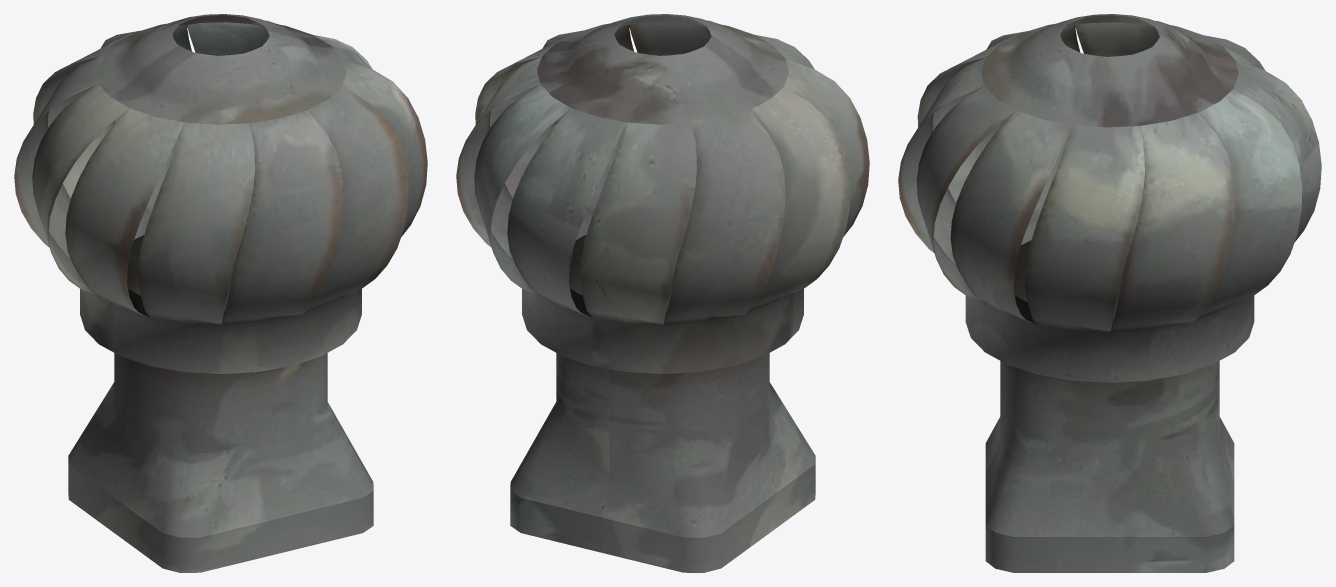
3 views of the same model, side by side, from view 1: azimuth 30°, elevation 25°; view 2: azimuth 150°, elevation 25°; view 3: azimuth 270°, elevation 25° (orthographic). The views are drawn at different scales.
Parts seen in each view (by area): view 1: body0_model0_lod0_mesh0; view 2: body0_model0_lod0_mesh0; view 3: body0_model0_lod0_mesh0.
Boxes of the visible parts, left/top/right/bottom form: body0_model0_lod0_mesh0: left=14, top=14, right=427, bottom=572; body0_model0_lod0_mesh0: left=456, top=14, right=869, bottom=572; body0_model0_lod0_mesh0: left=898, top=14, right=1321, bottom=572.
Bounding box in the file's own units: 85.08 × 107 × 85.08.
1 material, 1 textured.
